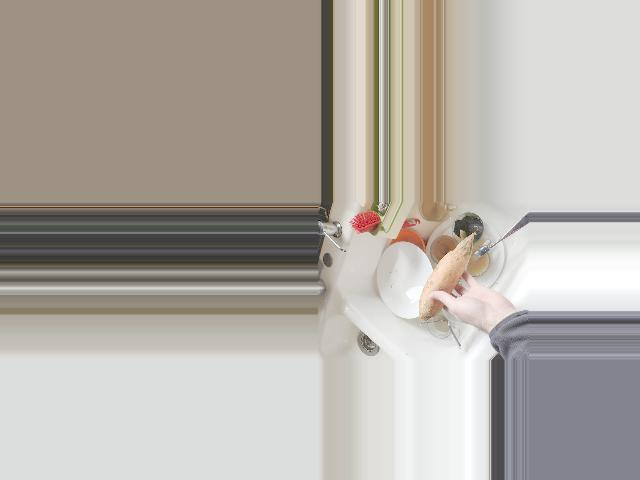sweet_potato: (416, 234, 478, 320)
